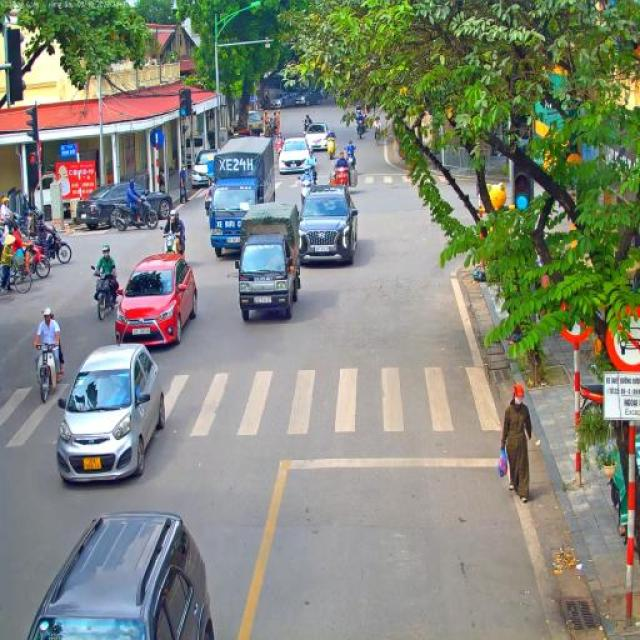car: (25, 510, 216, 640), (55, 340, 166, 484), (114, 252, 198, 348), (75, 180, 174, 230), (297, 183, 358, 264), (277, 136, 315, 175), (192, 148, 214, 187), (306, 122, 330, 154), (281, 91, 305, 108), (304, 86, 321, 105), (265, 98, 283, 111)
motorcycle: (109, 195, 160, 230), (33, 342, 61, 403), (90, 265, 120, 321), (13, 242, 52, 278), (36, 230, 72, 265), (0, 209, 31, 246), (160, 230, 185, 256), (297, 178, 314, 208), (336, 166, 350, 189), (274, 139, 284, 160), (356, 120, 366, 140), (328, 137, 337, 159), (348, 152, 357, 173), (372, 126, 380, 146), (311, 165, 318, 185), (302, 121, 309, 133)
truck: (206, 137, 276, 257), (236, 202, 300, 321), (34, 172, 78, 224), (246, 110, 265, 138), (263, 87, 283, 103)
